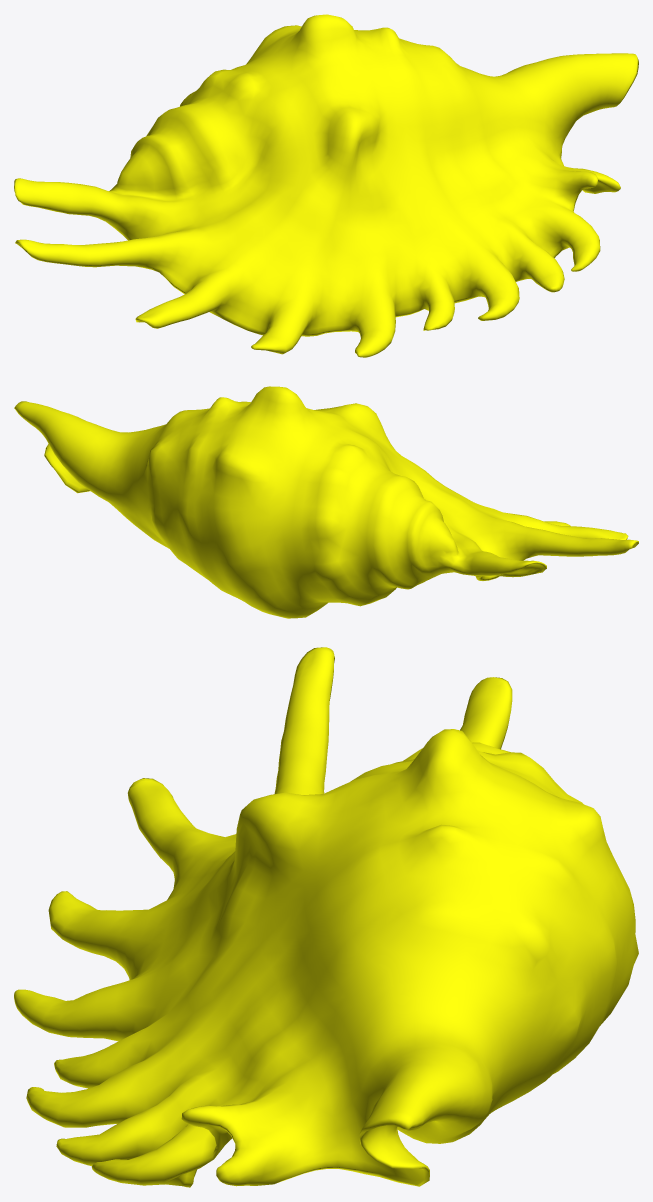
The model's file is decor-lambis.glb.
The picture shows the model from 3 angles, top to bottom: view 1: azimuth 30°, elevation 25°; view 2: azimuth 150°, elevation 25°; view 3: azimuth 270°, elevation 25°; orthographic projection. The views are drawn at different scales.
Visible parts, largest first — view 1: lambis_shell; view 2: lambis_shell; view 3: lambis_shell.
Part boxes in pixels (x1,y1,x2,y2): lambis_shell: [14, 14, 638, 357]; lambis_shell: [14, 386, 638, 618]; lambis_shell: [14, 647, 638, 1187].
Size of the model in its own units: 0.1395 by 0.0465 by 0.0745.
Materials: 1 (1 with a texture image).
